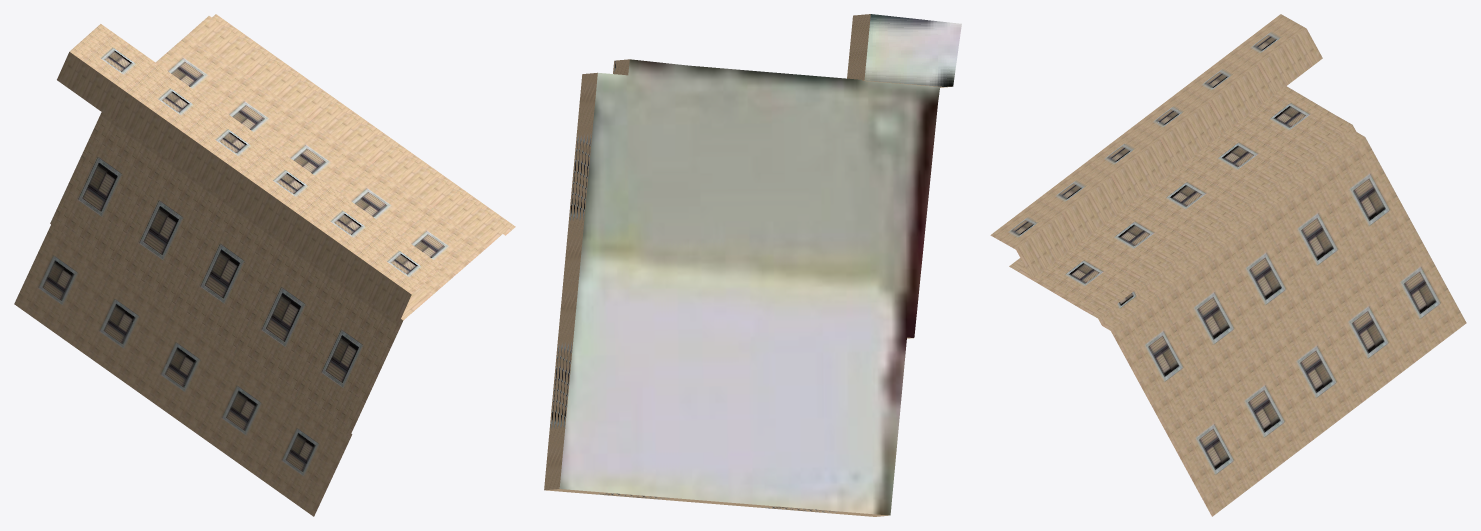
3 views of the same model, side by side, from view 1: azimuth 30°, elevation 25°; view 2: azimuth 150°, elevation 25°; view 3: azimuth 270°, elevation 25° (orthographic). The views are drawn at different scales.
Bounding box in the file's own units: 19.47 × 23.15 × 25.84.
Materials: 6 (6 with a texture image).
